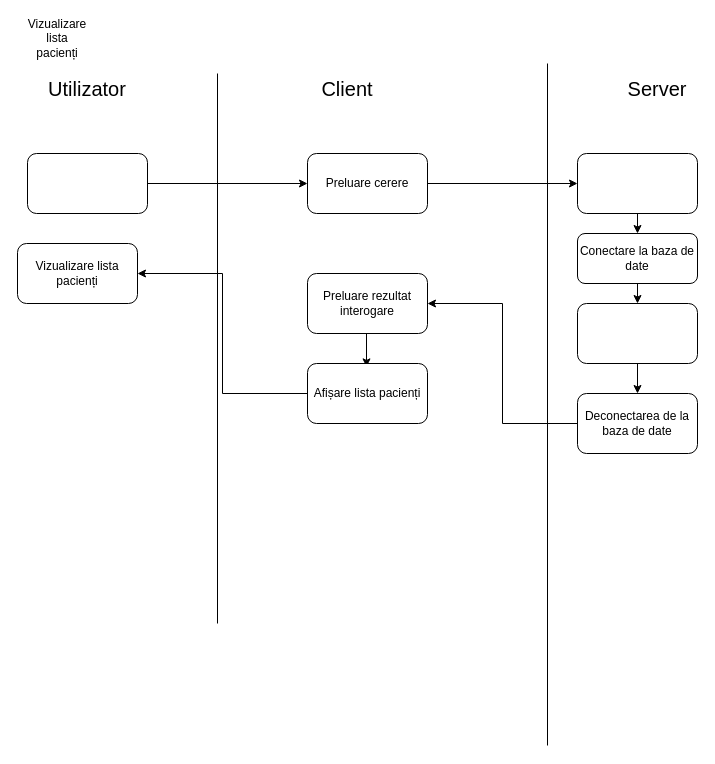
This 715x764 diagram has some shape labels left out. The shapes that lost their labels are listed below. From the top down, each one's centre as x and y in pixels, then its label:
At (87,183): "Generare vizualizare".
At (637,183): "Creare interogare".
At (637,333): "Executarea interogarii".
